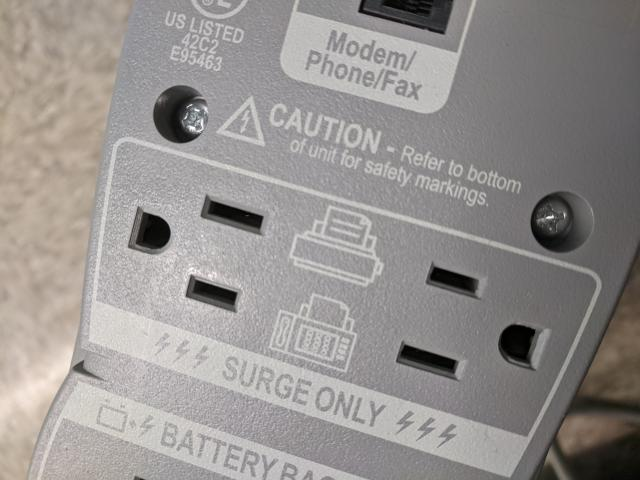CRS: (530, 196, 574, 247), (175, 95, 215, 141)
